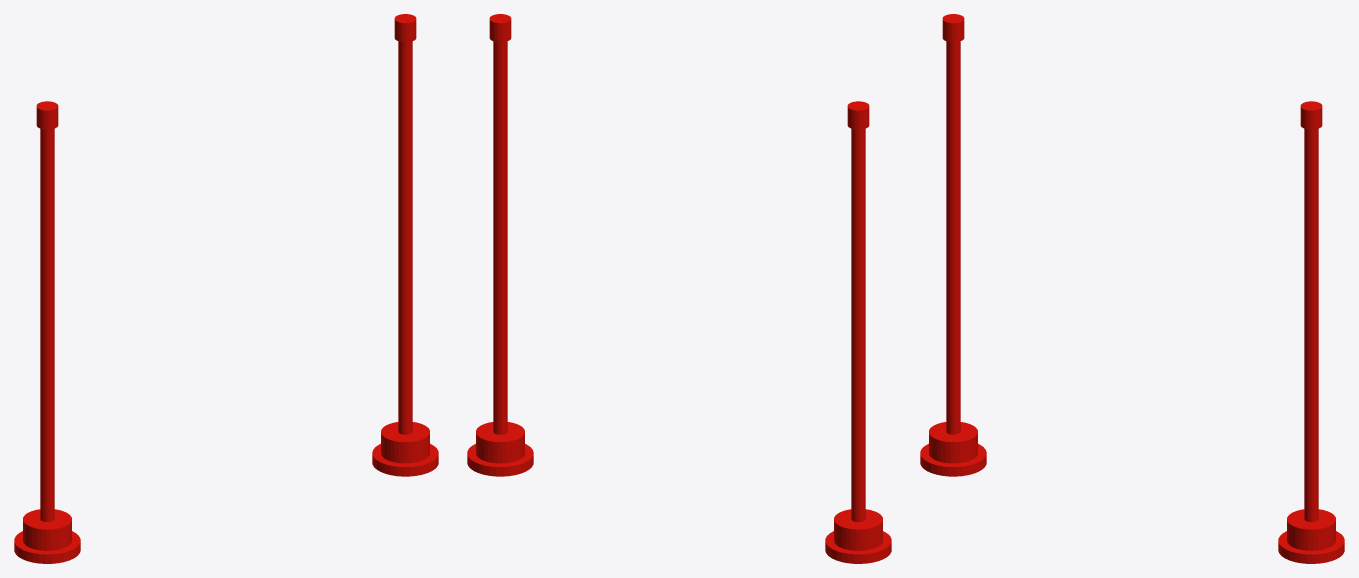
File: Antennas.fbx
3 views of the same model, side by side, from view 1: azimuth 30°, elevation 25°; view 2: azimuth 150°, elevation 25°; view 3: azimuth 330°, elevation 25° (orthographic).
Visible parts, largest first — view 1: Antennas; view 2: Antennas; view 3: Antennas.
Part boxes in pixels (x1,y1,x2,y2): Antennas: [14, 14, 438, 563]; Antennas: [467, 14, 891, 563]; Antennas: [920, 14, 1344, 563].
Bounding box in the file's own units: 51.65 × 52.71 × 7.17.
